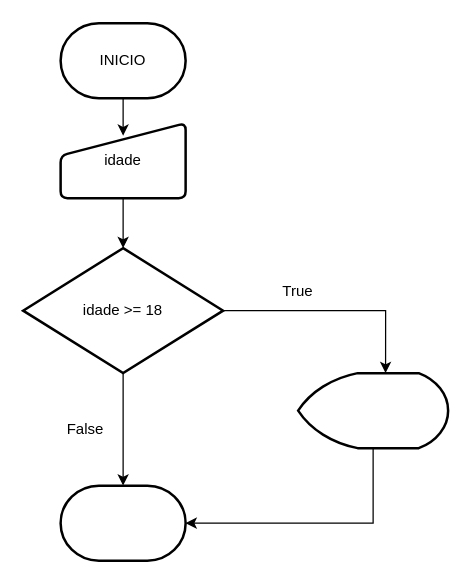
Some shapes in this 470 by 583 pixel diagram are drawn without their labels. The shapes that lost their labels are listed below. From the top down, each one's centre as x and y in pixels, then its label:
pixel 372 410: voce e maior
pixel 122 522: fim_algoritmo
